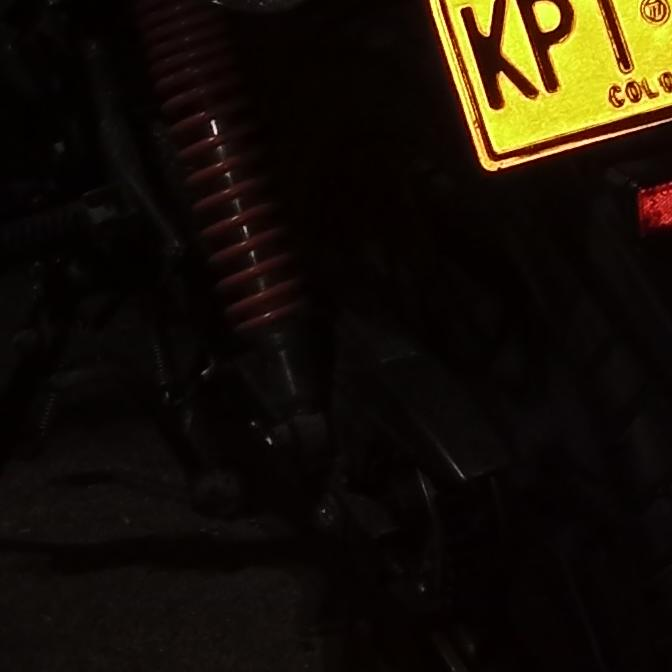plates: (425, 0, 672, 161)
